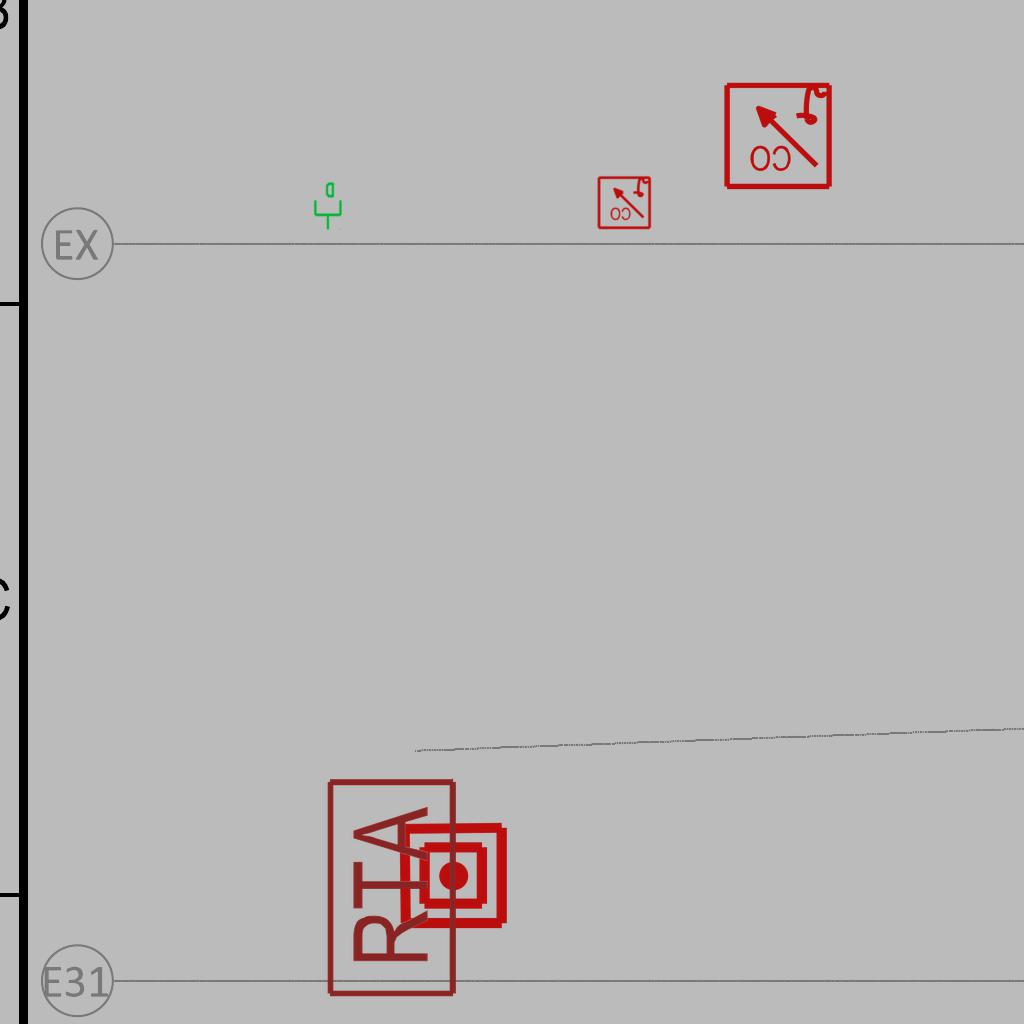Datenanschluss_einfach: (310, 181, 344, 231)
NAM-Nichtautomatischer_Melder: (397, 819, 510, 932)
ROA_Rauchmelder_optisch_mit_Signalgeber_(Sockelsirene): (721, 78, 834, 191), (596, 174, 652, 230)
Ruf-und_Abstelltaster: (323, 776, 461, 1004)
